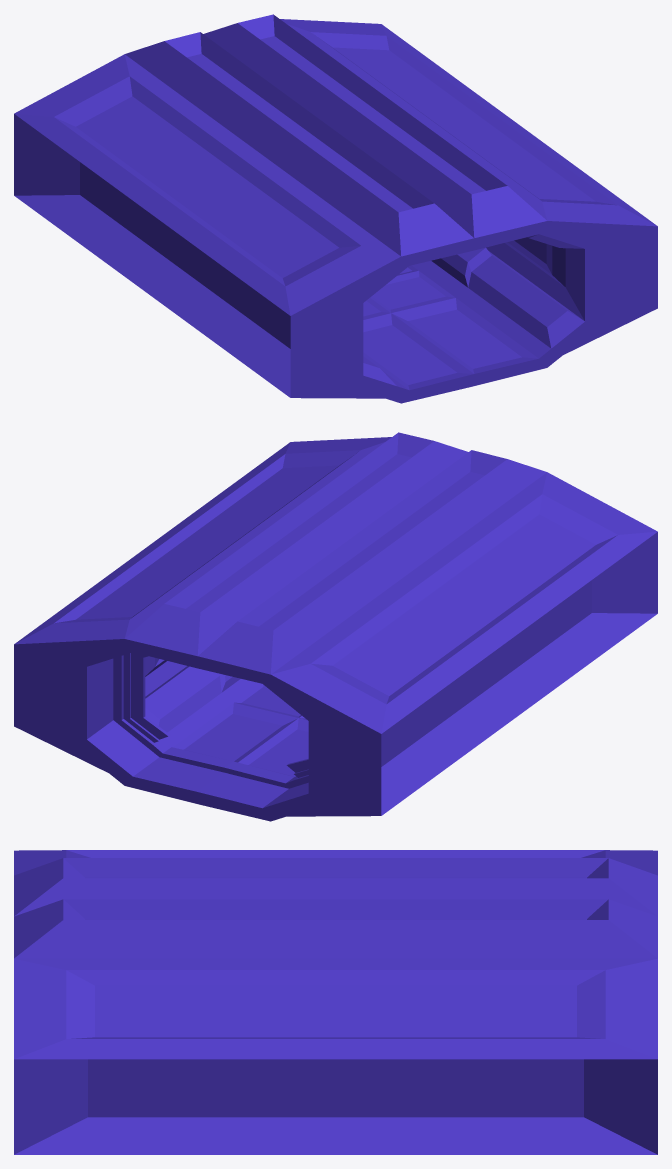
File: station.obj
The picture shows the model from 3 angles, top to bottom: view 1: azimuth 30°, elevation 25°; view 2: azimuth 150°, elevation 25°; view 3: azimuth 270°, elevation 25°; orthographic projection. The views are drawn at different scales.
Visible parts, largest first — view 1: Cube; view 2: Cube; view 3: Cube.
Part boxes in pixels (left/top/right/bottom): Cube: left=14, top=14, right=657, bottom=403; Cube: left=14, top=432, right=657, bottom=821; Cube: left=14, top=850, right=657, bottom=1154.
Bounding box in the file's own units: 5.67 × 2.53 × 7.39.
